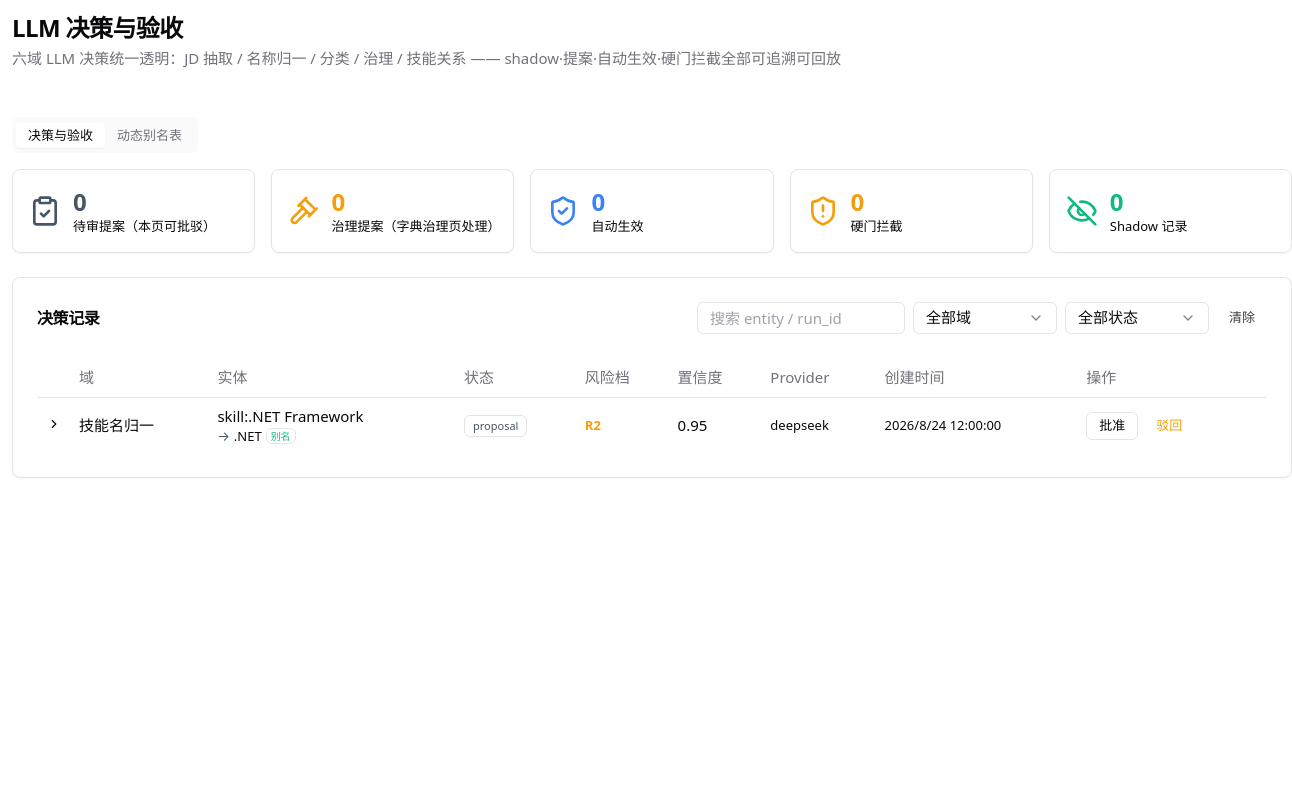
it: AdminLlmDecisionsPage 详情展开 › proposal 域展开显示批准后将执行的影响
Step 1. Click the button named "展开详情" → (54, 424), box [45,415,63,433]
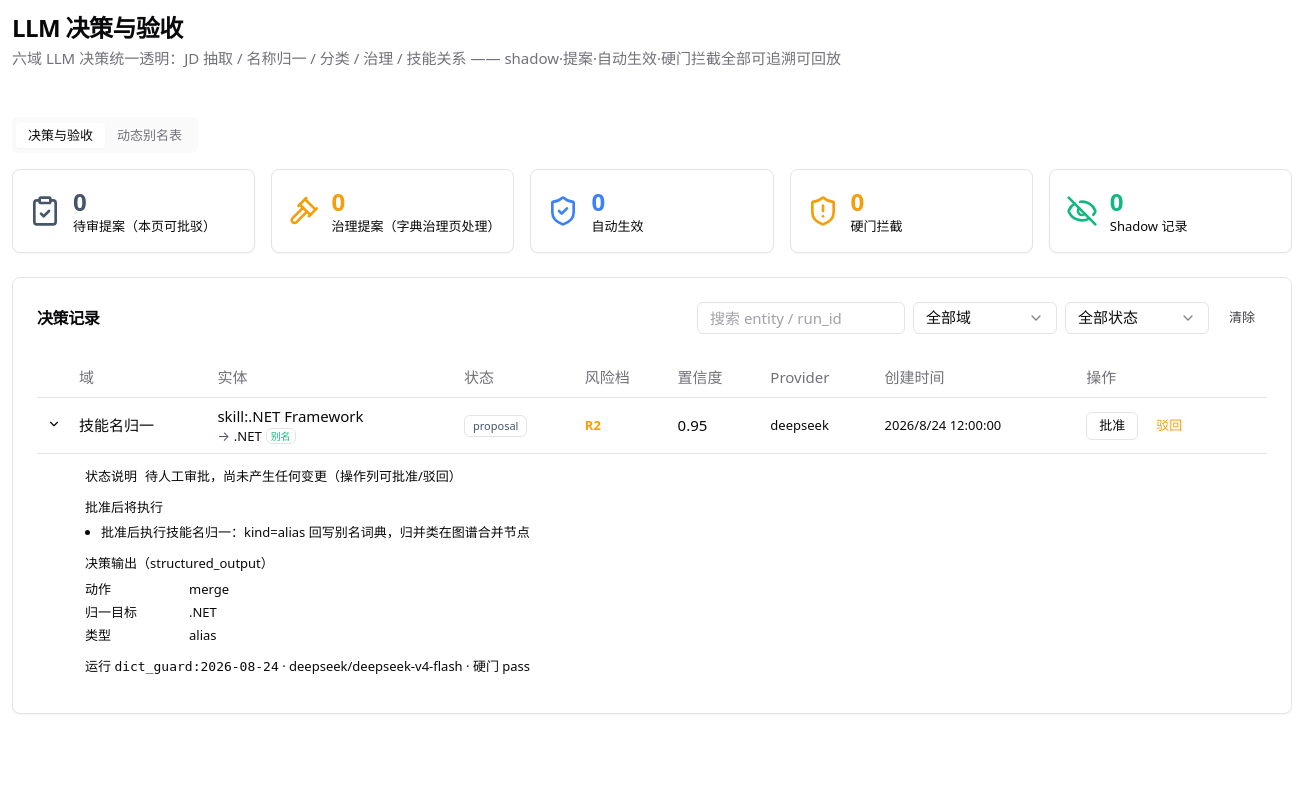
Check: the text "批准后将执行" is shown, box [85,498,163,516]
Check: the list item "批准后执行技能名归一：kind=alias 回写别名词典，归并类在图谱合并节点" is shown, box [101,523,530,541]
Check: the text "待人工审批，尚未产生任何变更（操作列可批准/驳回）" is shown, box [145,467,462,485]
